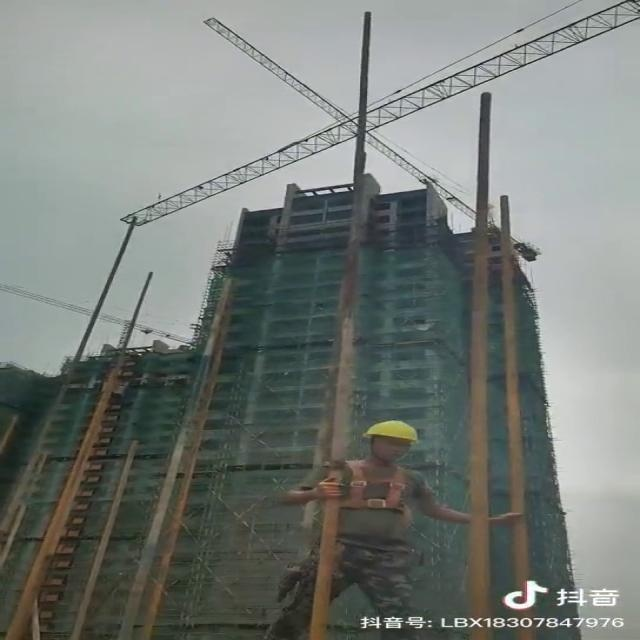Arnes_seguridad: (338, 459, 426, 528)
